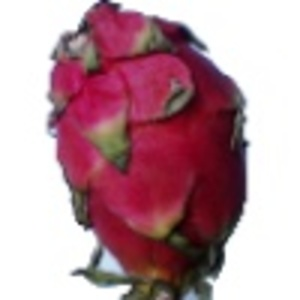pitaia: (46, 1, 252, 300)
